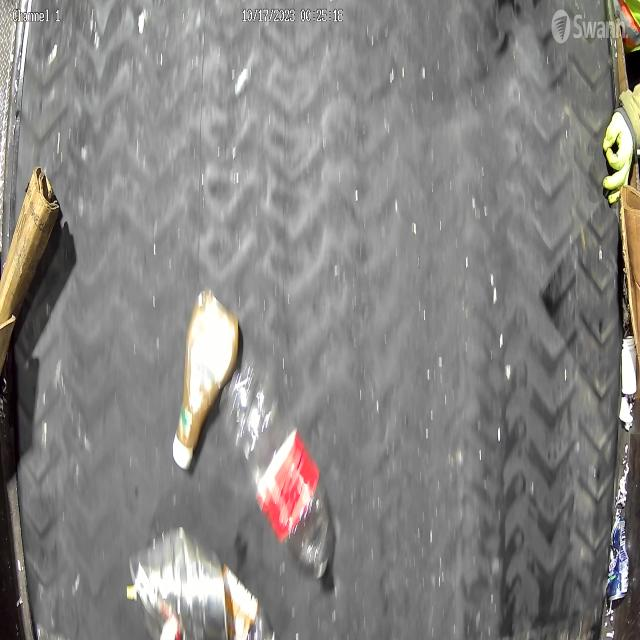can: (606, 514, 629, 602)
plastic_bottle: (225, 363, 333, 577)
